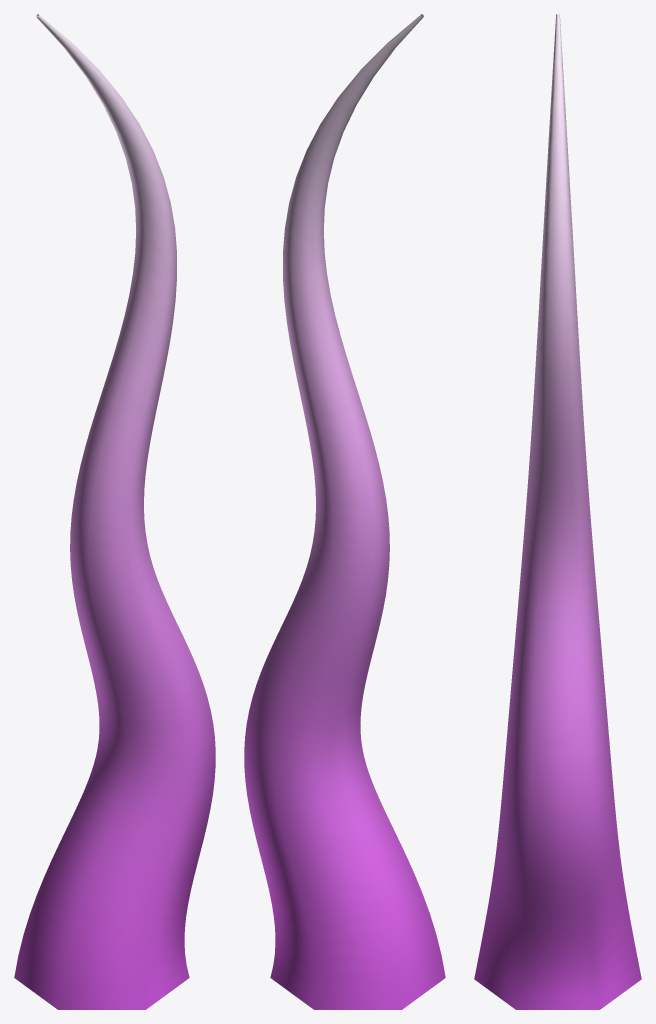
Rendered from Tentacle2.fbx.
3 renders of one model, left to right at view 1: azimuth 30°, elevation 25°; view 2: azimuth 150°, elevation 25°; view 3: azimuth 270°, elevation 25°, orthographic. The views are drawn at different scales.
Visible parts, largest first — view 1: NurbsPath; view 2: NurbsPath; view 3: NurbsPath.
Boxes of the visible parts, x1,y1,x2,y2 form: NurbsPath: [14, 14, 215, 1009]; NurbsPath: [244, 14, 445, 1009]; NurbsPath: [474, 14, 641, 1009].
Bounding box in the file's own units: 317 × 1800 × 292.
